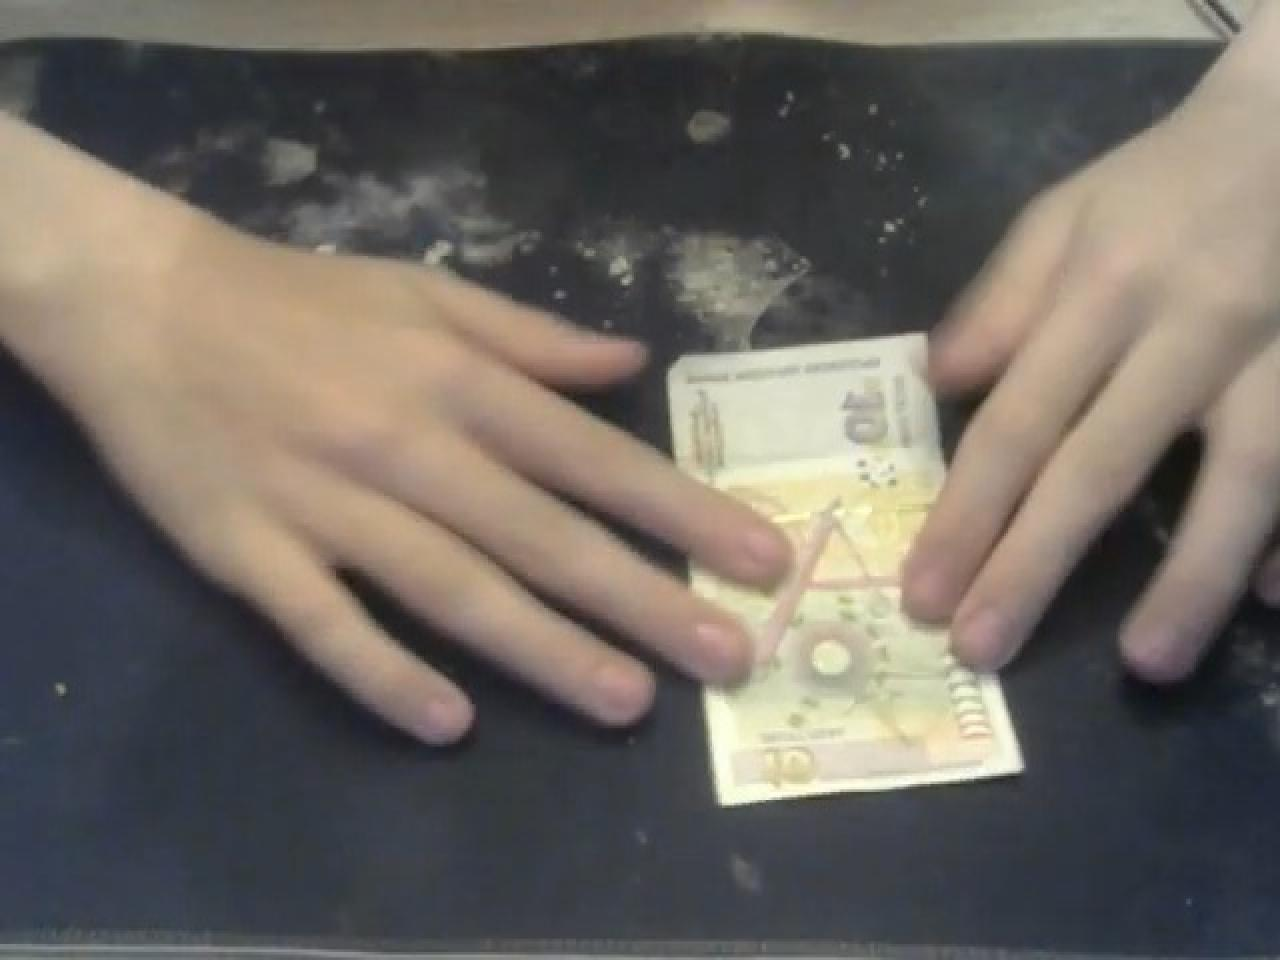10leva: (739, 684, 844, 807), (812, 357, 912, 461)
